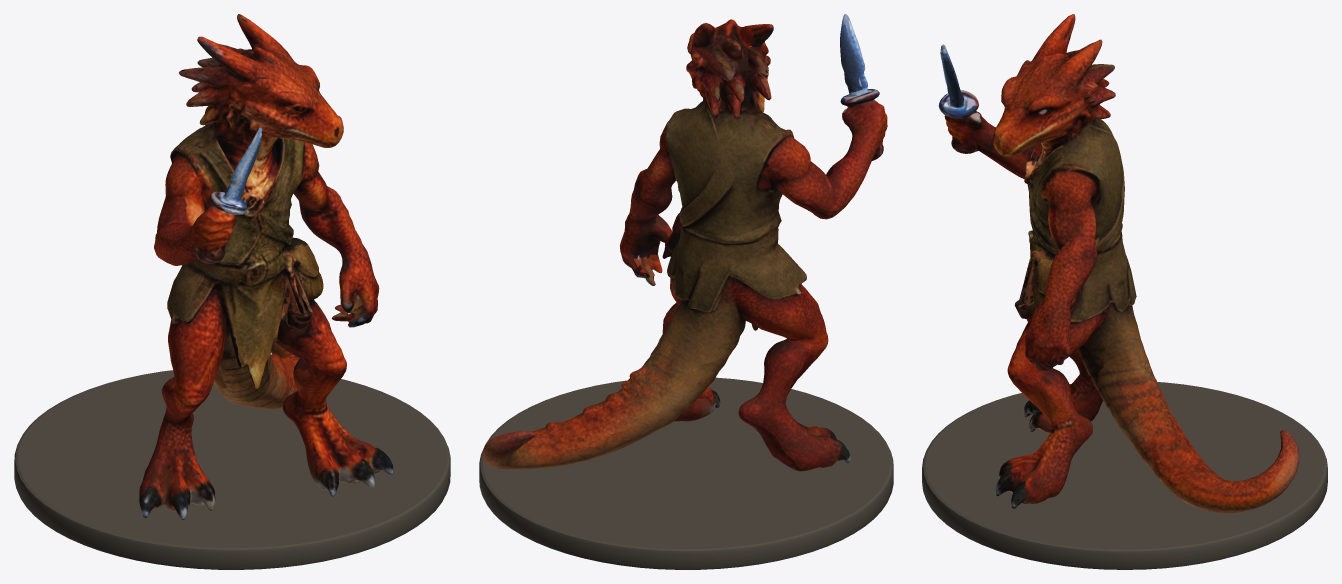
File: kobold.glb
3 views of the same model, side by side, from view 1: azimuth 30°, elevation 25°; view 2: azimuth 150°, elevation 25°; view 3: azimuth 270°, elevation 25° (orthographic). The views are drawn at different scales.
Parts seen in each view (by area): view 1: kobold_body, kobold_round_base; view 2: kobold_body, kobold_round_base; view 3: kobold_body, kobold_round_base.
Boxes of the visible parts, x1,y1,x2,y2 form: kobold_body: [139, 14, 393, 519]; kobold_round_base: [14, 370, 450, 569]; kobold_body: [482, 14, 887, 471]; kobold_round_base: [479, 377, 893, 569]; kobold_body: [938, 14, 1299, 513]; kobold_round_base: [922, 382, 1327, 569].
Bounding box in the file's own units: 1 × 1.21 × 1.
2 materials, 1 textured.
